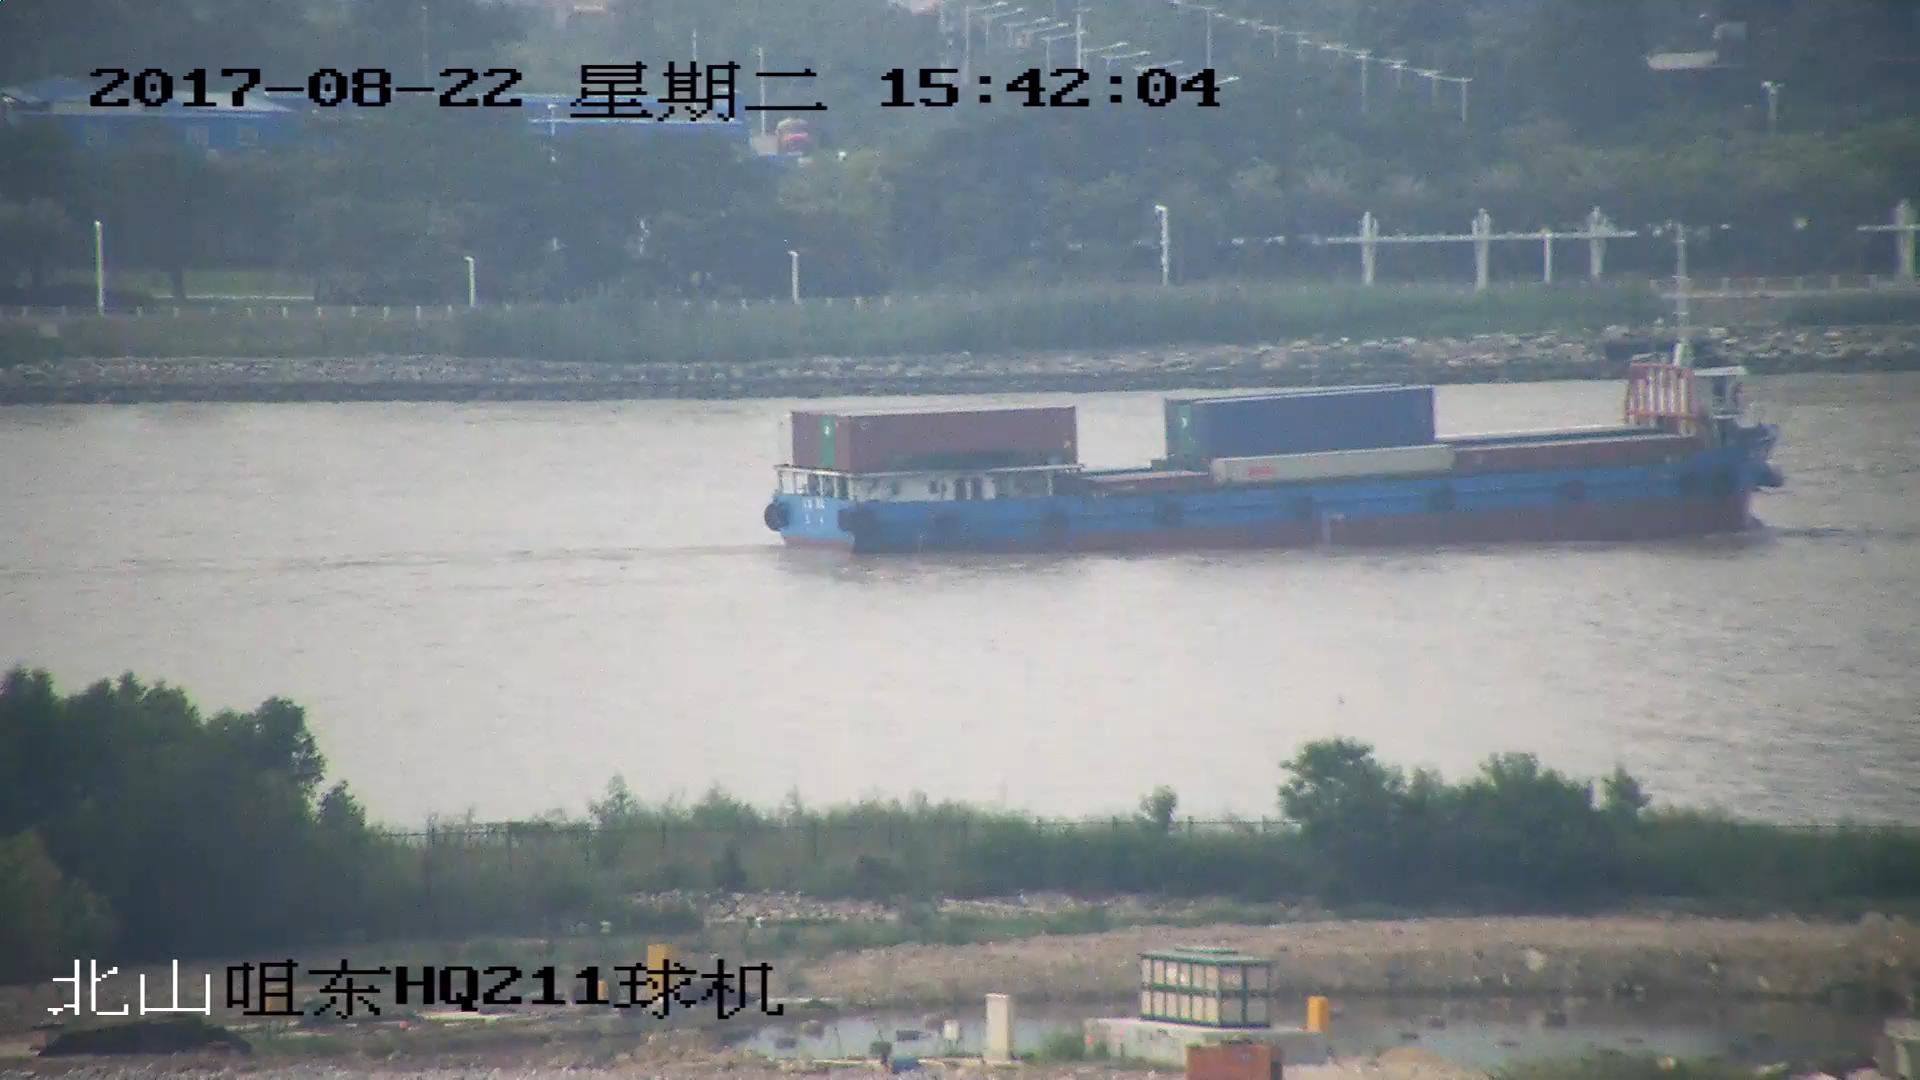container ship: (762, 264, 1787, 553)
